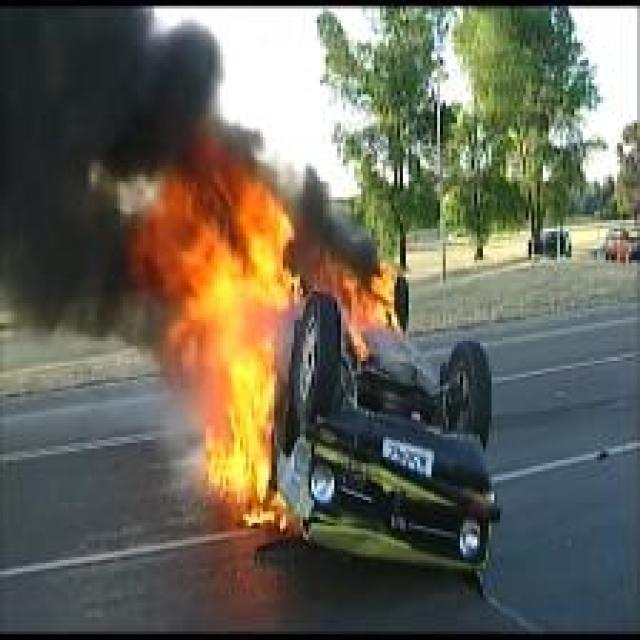Fire: (134, 135, 303, 530), (334, 264, 406, 356)
